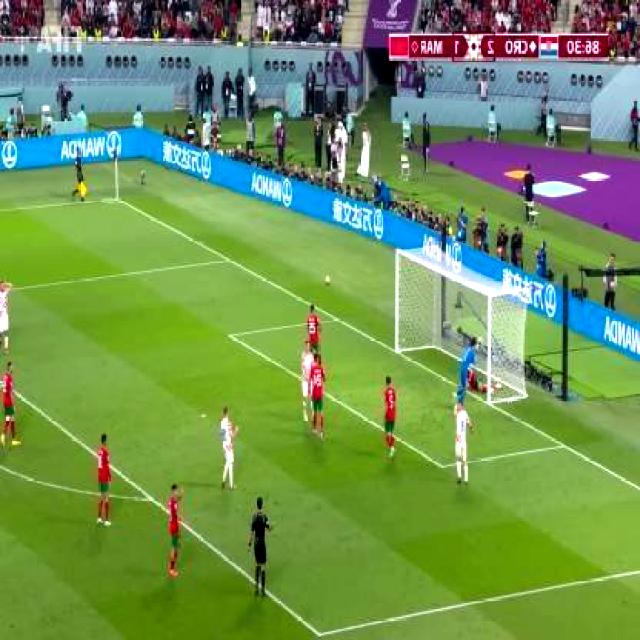bigarea_bottom_inner: (310, 621, 327, 640)
bigarea_top_outter: (220, 251, 237, 269)
bottom_arc_area_intersection: (141, 485, 157, 512)
corner: (100, 196, 125, 204)
smallarea_bottom_inner: (432, 454, 451, 480)
smallarea_bottom_outter: (556, 438, 570, 452)
smallarea_top_inner: (222, 323, 238, 348)
smallarea_top_outter: (328, 312, 343, 326)
